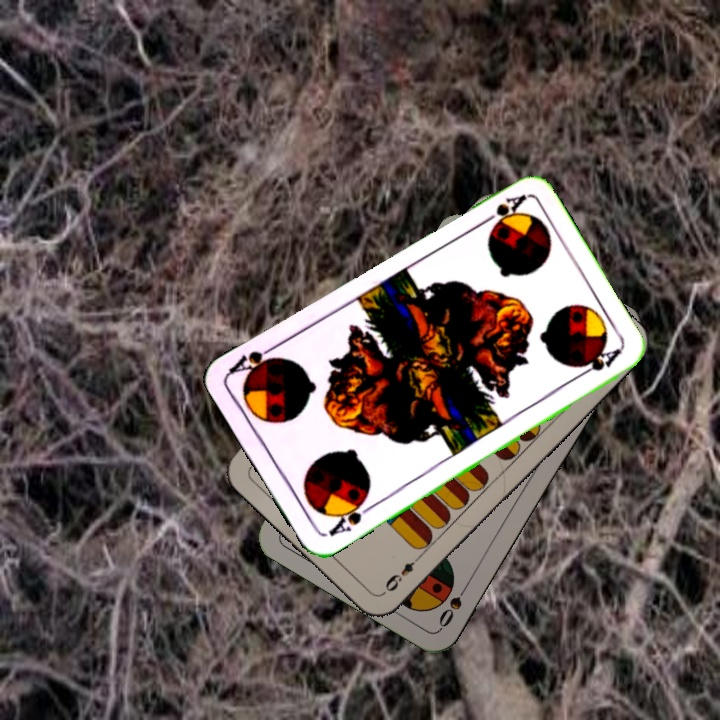E9: (379, 550, 424, 597)
SA: (324, 493, 376, 540), (475, 190, 529, 234)
SO: (434, 577, 473, 631)
